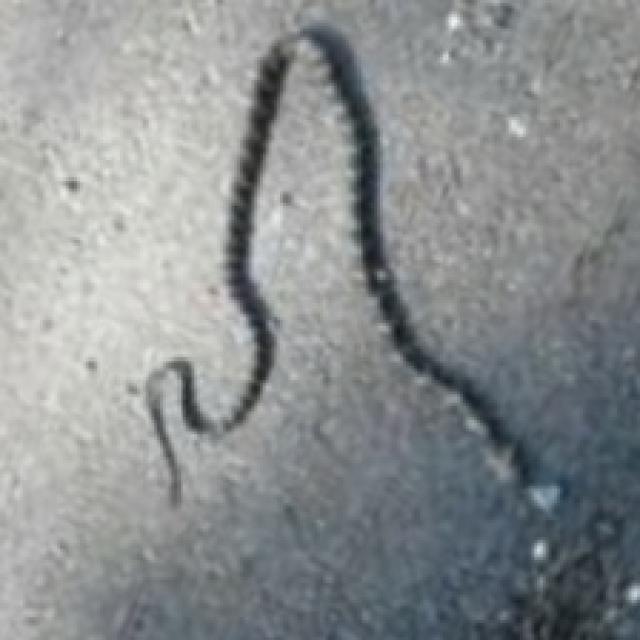king cobra: (223, 20, 529, 480)
